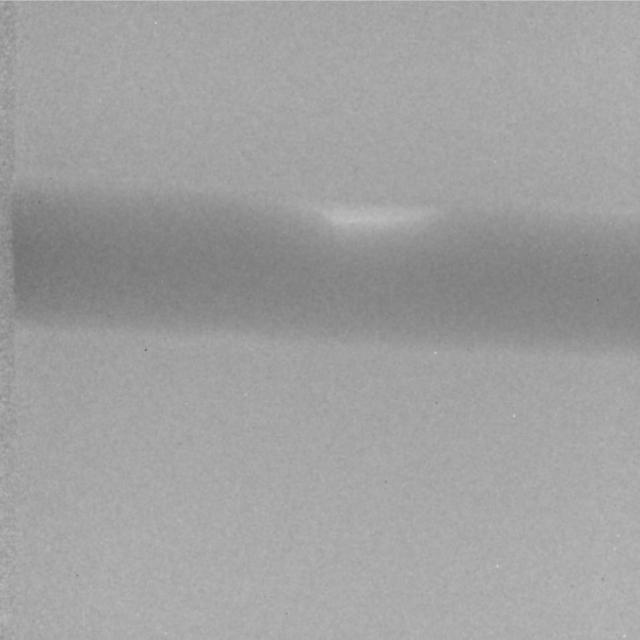unfused: (315, 200, 438, 239)
